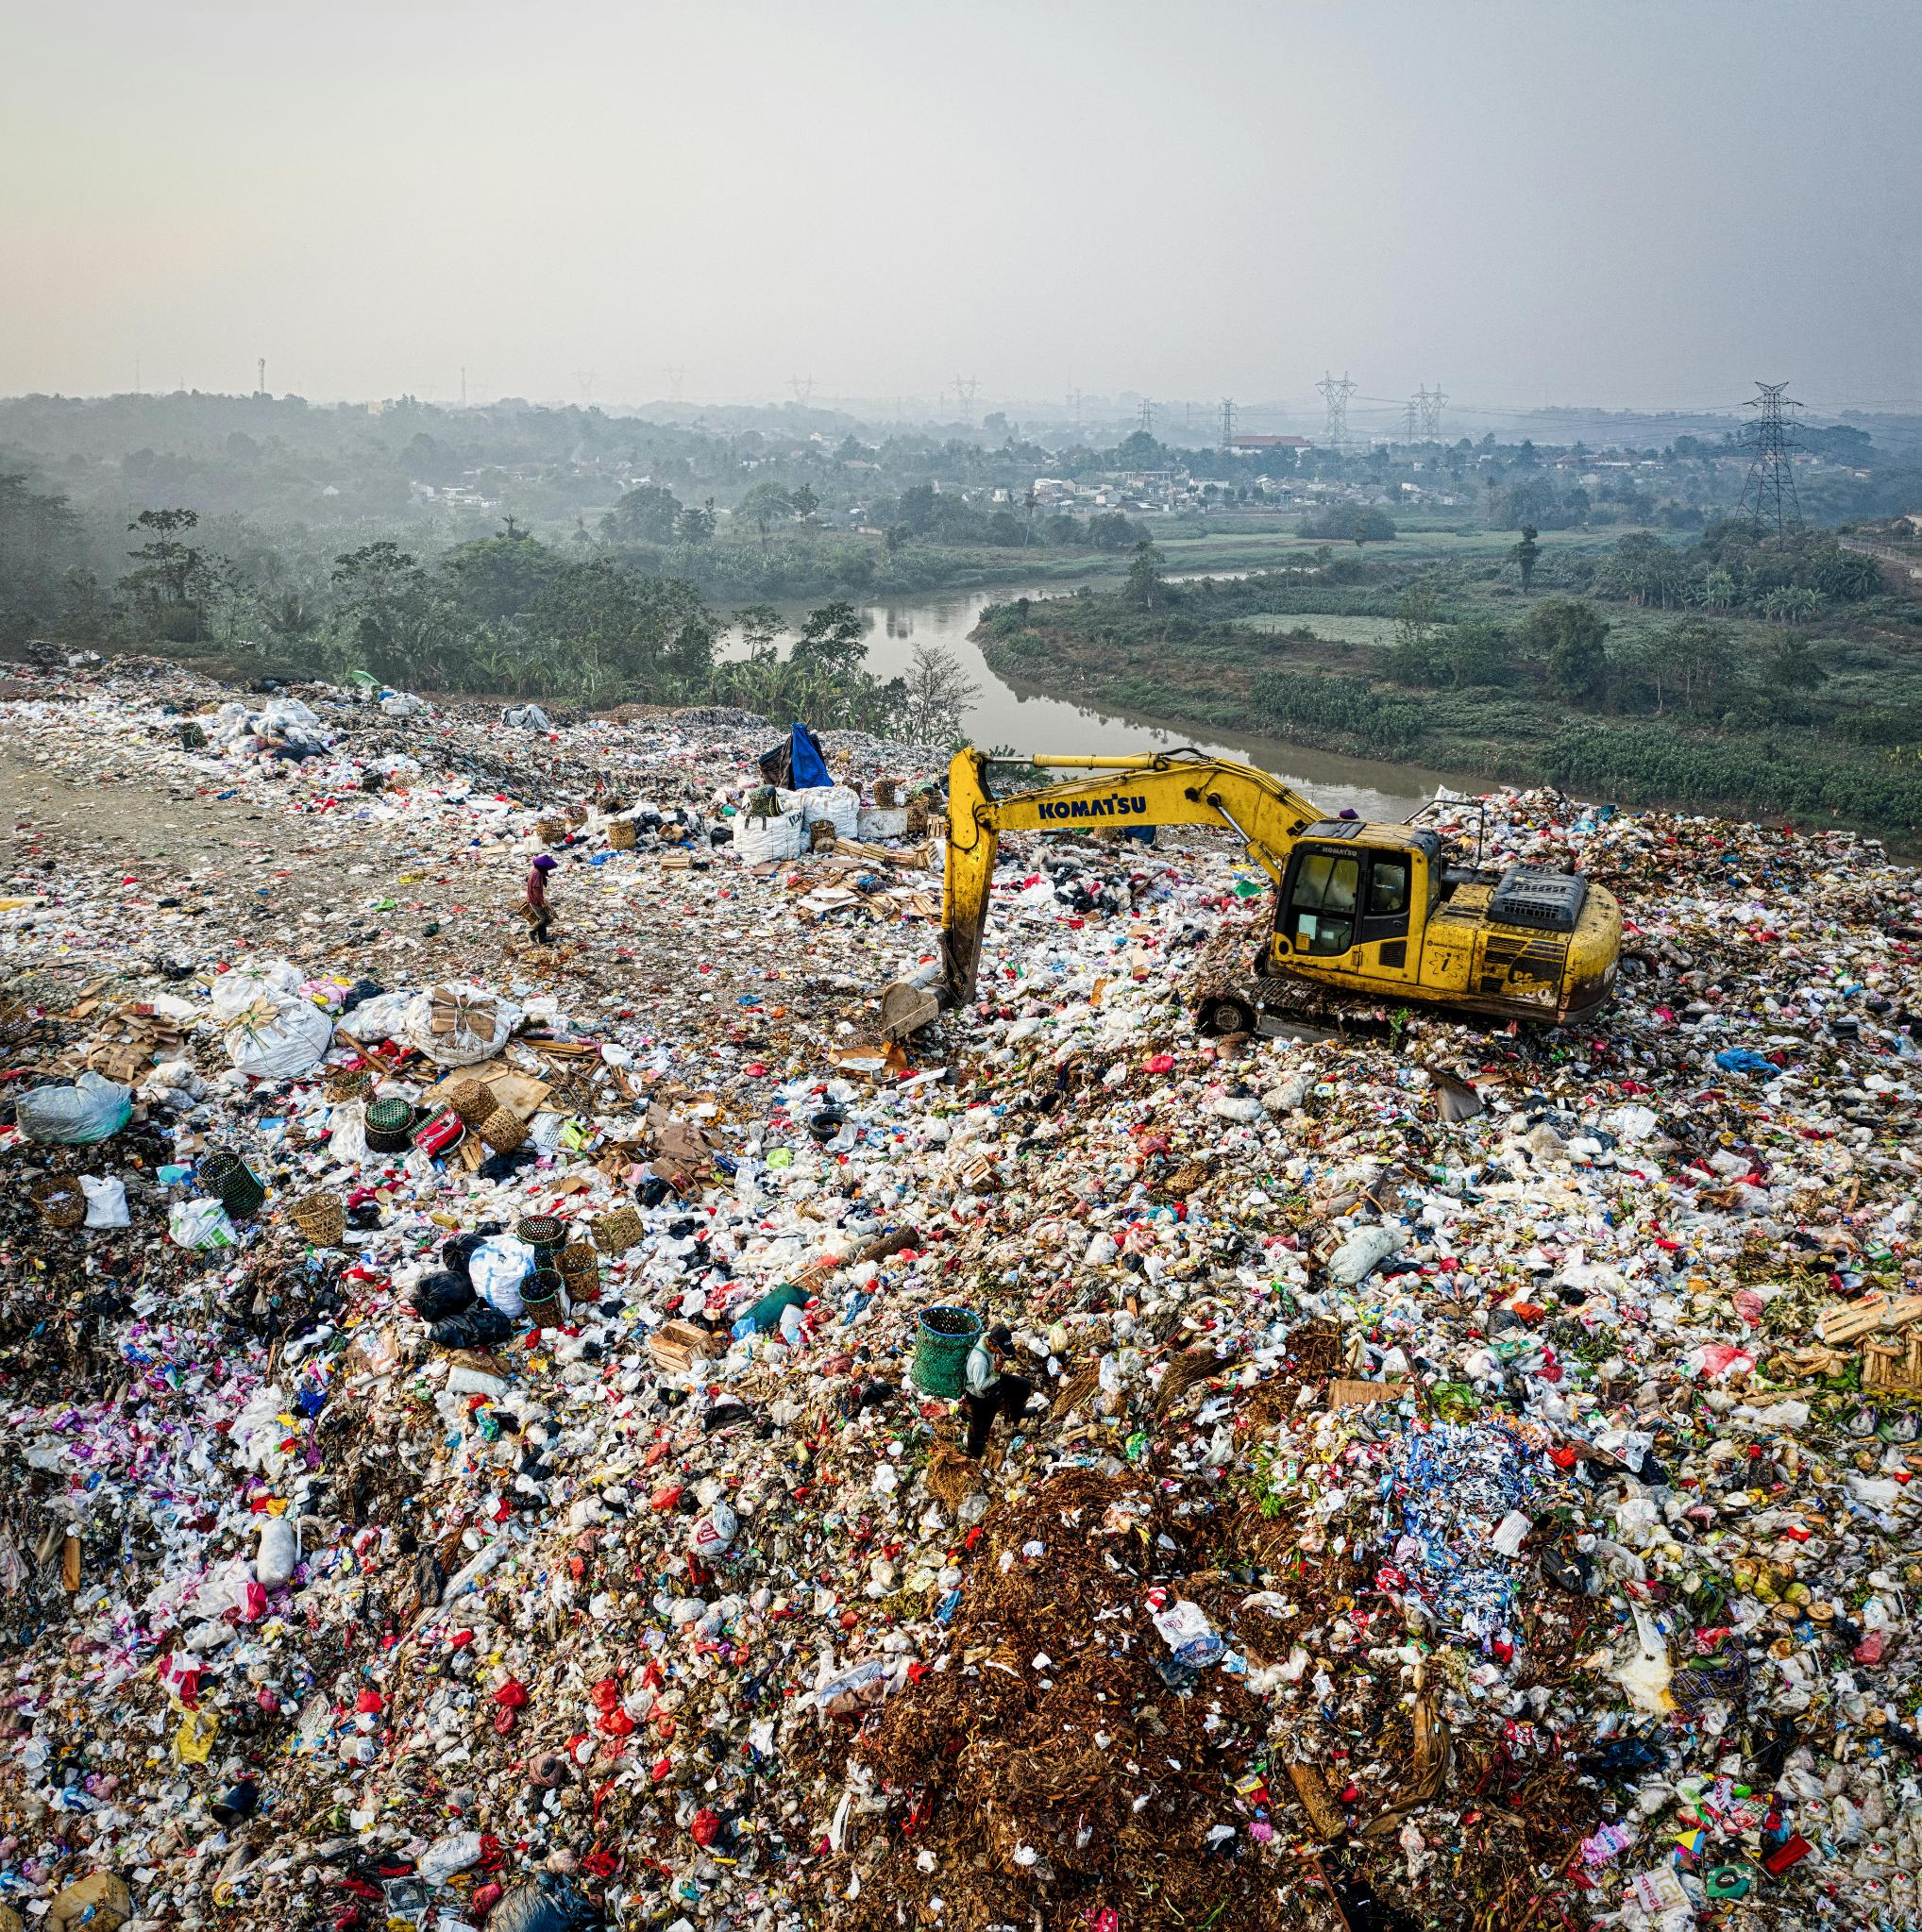Trash: (14, 730, 1922, 1932)
